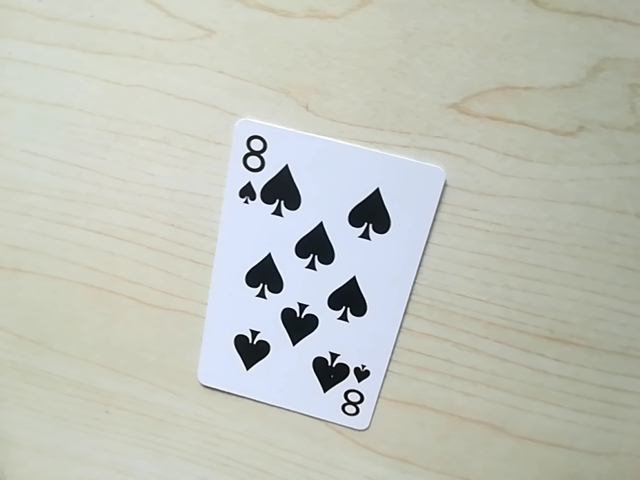ht 8: (231, 127, 277, 200), (327, 365, 375, 425)
